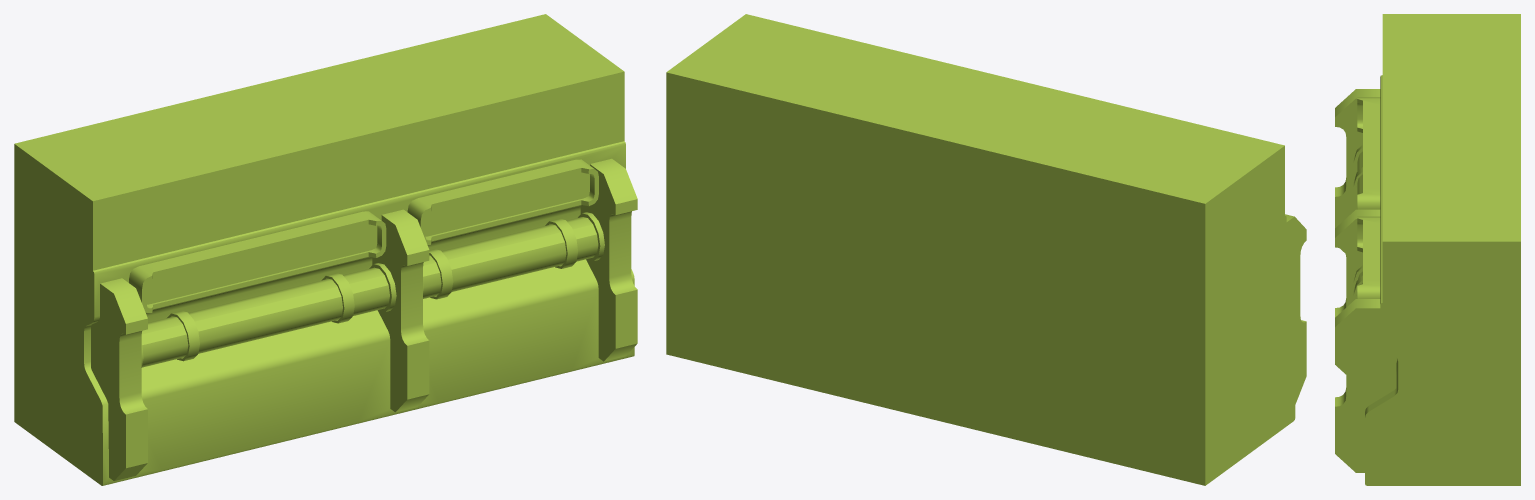
Rendered from Wall_Under_Floor_A.FBX.
3 renders of one model, left to right at view 1: azimuth 30°, elevation 25°; view 2: azimuth 150°, elevation 25°; view 3: azimuth 270°, elevation 25°, orthographic. The views are drawn at different scales.
Visible parts, largest first — view 1: Wall_Under_Floor_A; view 2: Wall_Under_Floor_A; view 3: Wall_Under_Floor_A.
Part boxes in pixels (x1,y1,x2,y2): Wall_Under_Floor_A: (14,14,637,485); Wall_Under_Floor_A: (666,14,1306,485); Wall_Under_Floor_A: (1335,14,1520,485).
Bounding box in the file's own units: 400 × 200 × 138.
